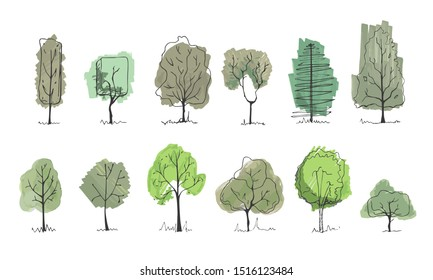tree: (351, 19, 407, 123), (153, 34, 217, 124), (145, 142, 206, 232), (214, 156, 285, 233), (294, 144, 353, 232), (287, 35, 340, 124), (221, 44, 273, 124), (84, 51, 138, 125), (79, 157, 132, 231), (28, 32, 69, 124), (16, 156, 63, 232), (359, 178, 417, 231)
